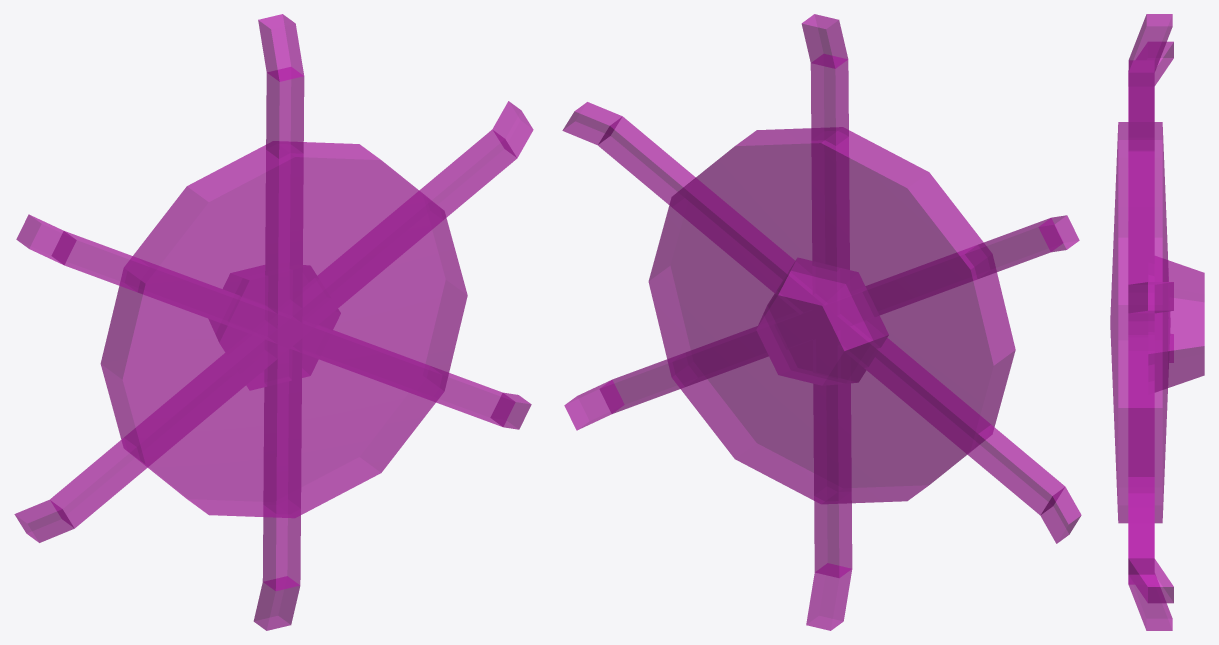
File: SM_Veh_Helm_04_Wheel_01_Collision.fbx
3 views of the same model, side by side, from view 1: azimuth 30°, elevation 25°; view 2: azimuth 150°, elevation 25°; view 3: azimuth 270°, elevation 25° (orthographic).
Parts seen in each view (by area): view 1: SM_Veh_Helm_04_Wheel_01_Collision; view 2: SM_Veh_Helm_04_Wheel_01_Collision; view 3: SM_Veh_Helm_04_Wheel_01_Collision.
Part boxes in pixels (x1,y1,x2,y2): SM_Veh_Helm_04_Wheel_01_Collision: (14,14,533,630); SM_Veh_Helm_04_Wheel_01_Collision: (562,14,1081,630); SM_Veh_Helm_04_Wheel_01_Collision: (1110,14,1204,630).
Bounding box in the file's own units: 133 × 151 × 21.35.
